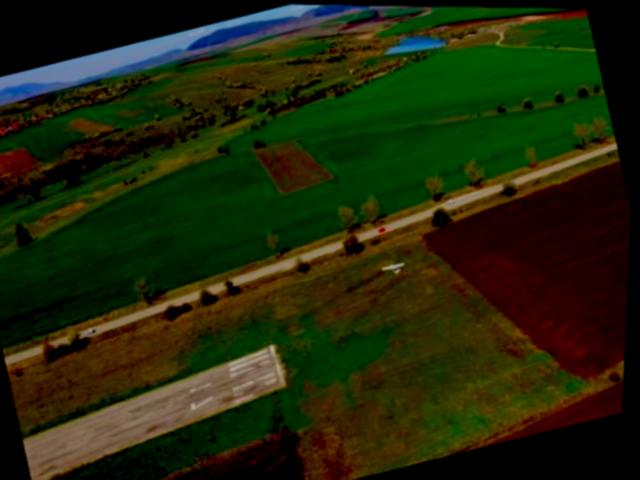uav: (379, 251, 415, 282)
